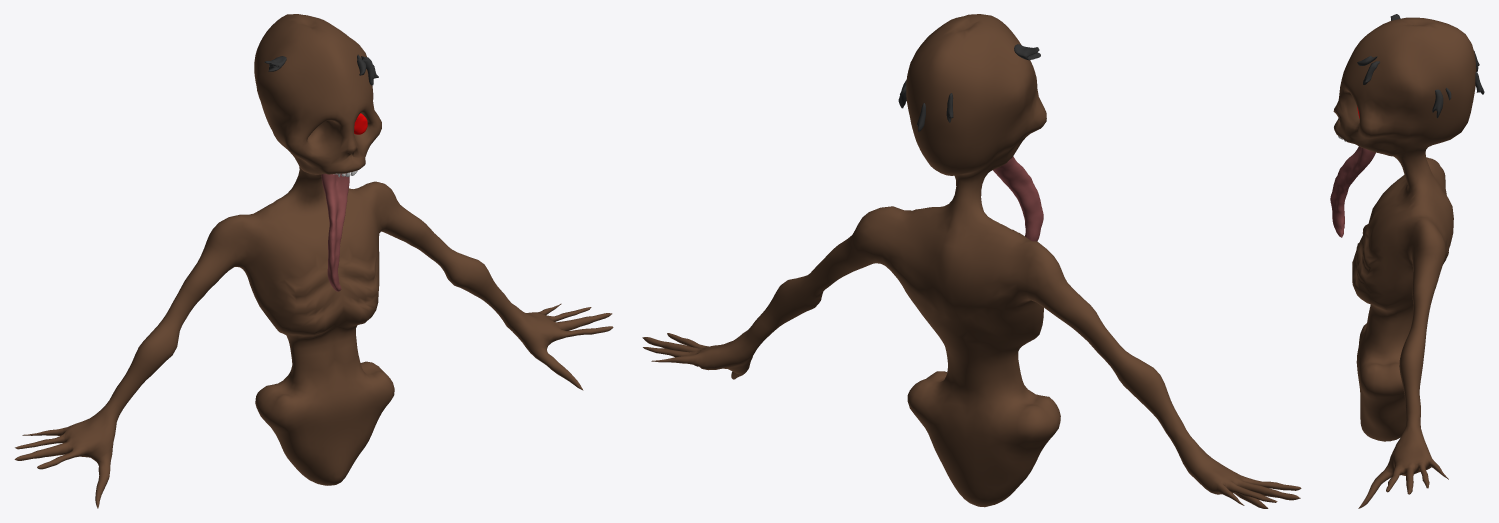
The model's file is personaje debil02 low poly.fbx.
3 renders of one model, left to right at view 1: azimuth 30°, elevation 25°; view 2: azimuth 150°, elevation 25°; view 3: azimuth 270°, elevation 25°, orthographic. The views are drawn at different scales.
Visible parts, largest first — view 1: low poly; view 2: low poly; view 3: low poly.
Part boxes in pixels (bbox=[...]): low poly: bbox=[14, 14, 613, 508]; low poly: bbox=[642, 14, 1301, 508]; low poly: bbox=[1330, 14, 1484, 508].
Bounding box in the file's own units: 24.93 × 17.83 × 5.97.
